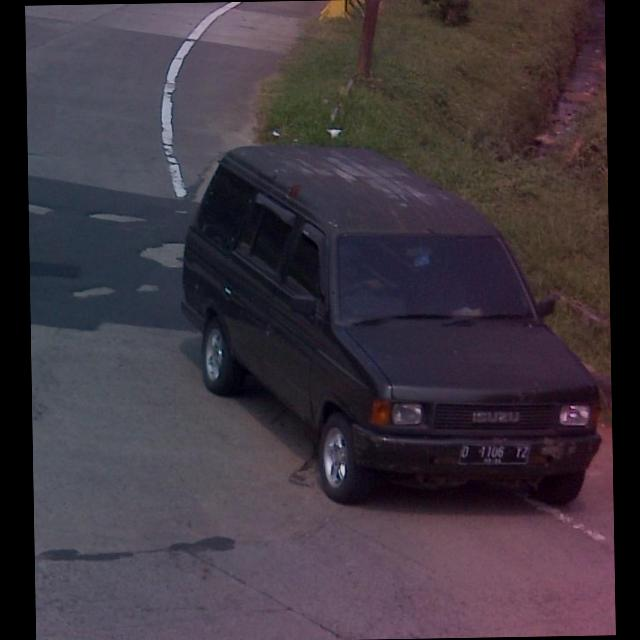plate: (459, 438, 532, 468)
